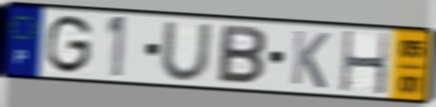1: (105, 13, 129, 82)
B: (215, 22, 269, 87)
G: (43, 13, 95, 76)
H: (339, 29, 391, 97)
K: (288, 28, 332, 91)
U: (158, 20, 214, 83)
